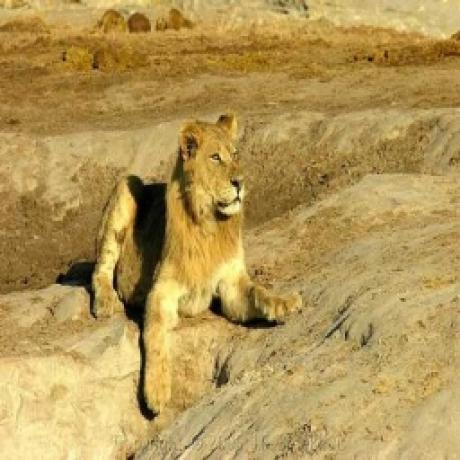Lion: (90, 109, 303, 420)
